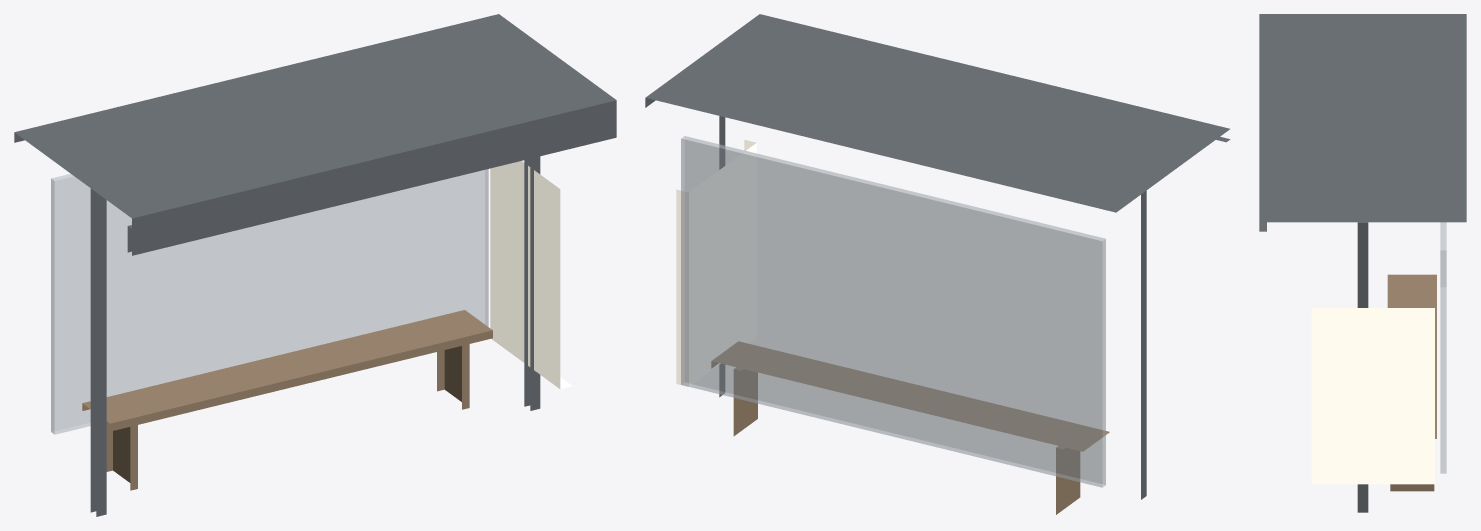
The model's file is bus_stop.glb.
3 views of the same model, side by side, from view 1: azimuth 30°, elevation 25°; view 2: azimuth 150°, elevation 25°; view 3: azimuth 270°, elevation 25° (orthographic). The views are drawn at different scales.
Parts seen in each view (by area): view 1: bus_stop; view 2: bus_stop; view 3: bus_stop.
Part boxes in pixels (box(x1,y1,x2,y2)): bus_stop: box(14, 14, 616, 516); bus_stop: box(645, 14, 1230, 514); bus_stop: box(1259, 14, 1466, 512).
Size of the model in its own units: 3.8 by 2.58 by 1.6.
